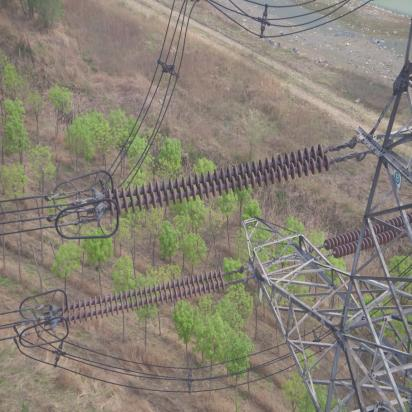insulator: (103, 142, 350, 218), (57, 269, 235, 329)
